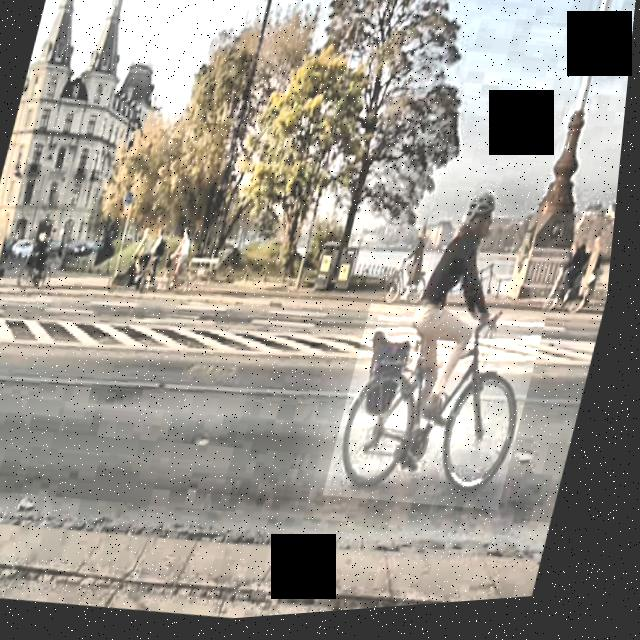bicycle: (331, 299, 556, 529)
